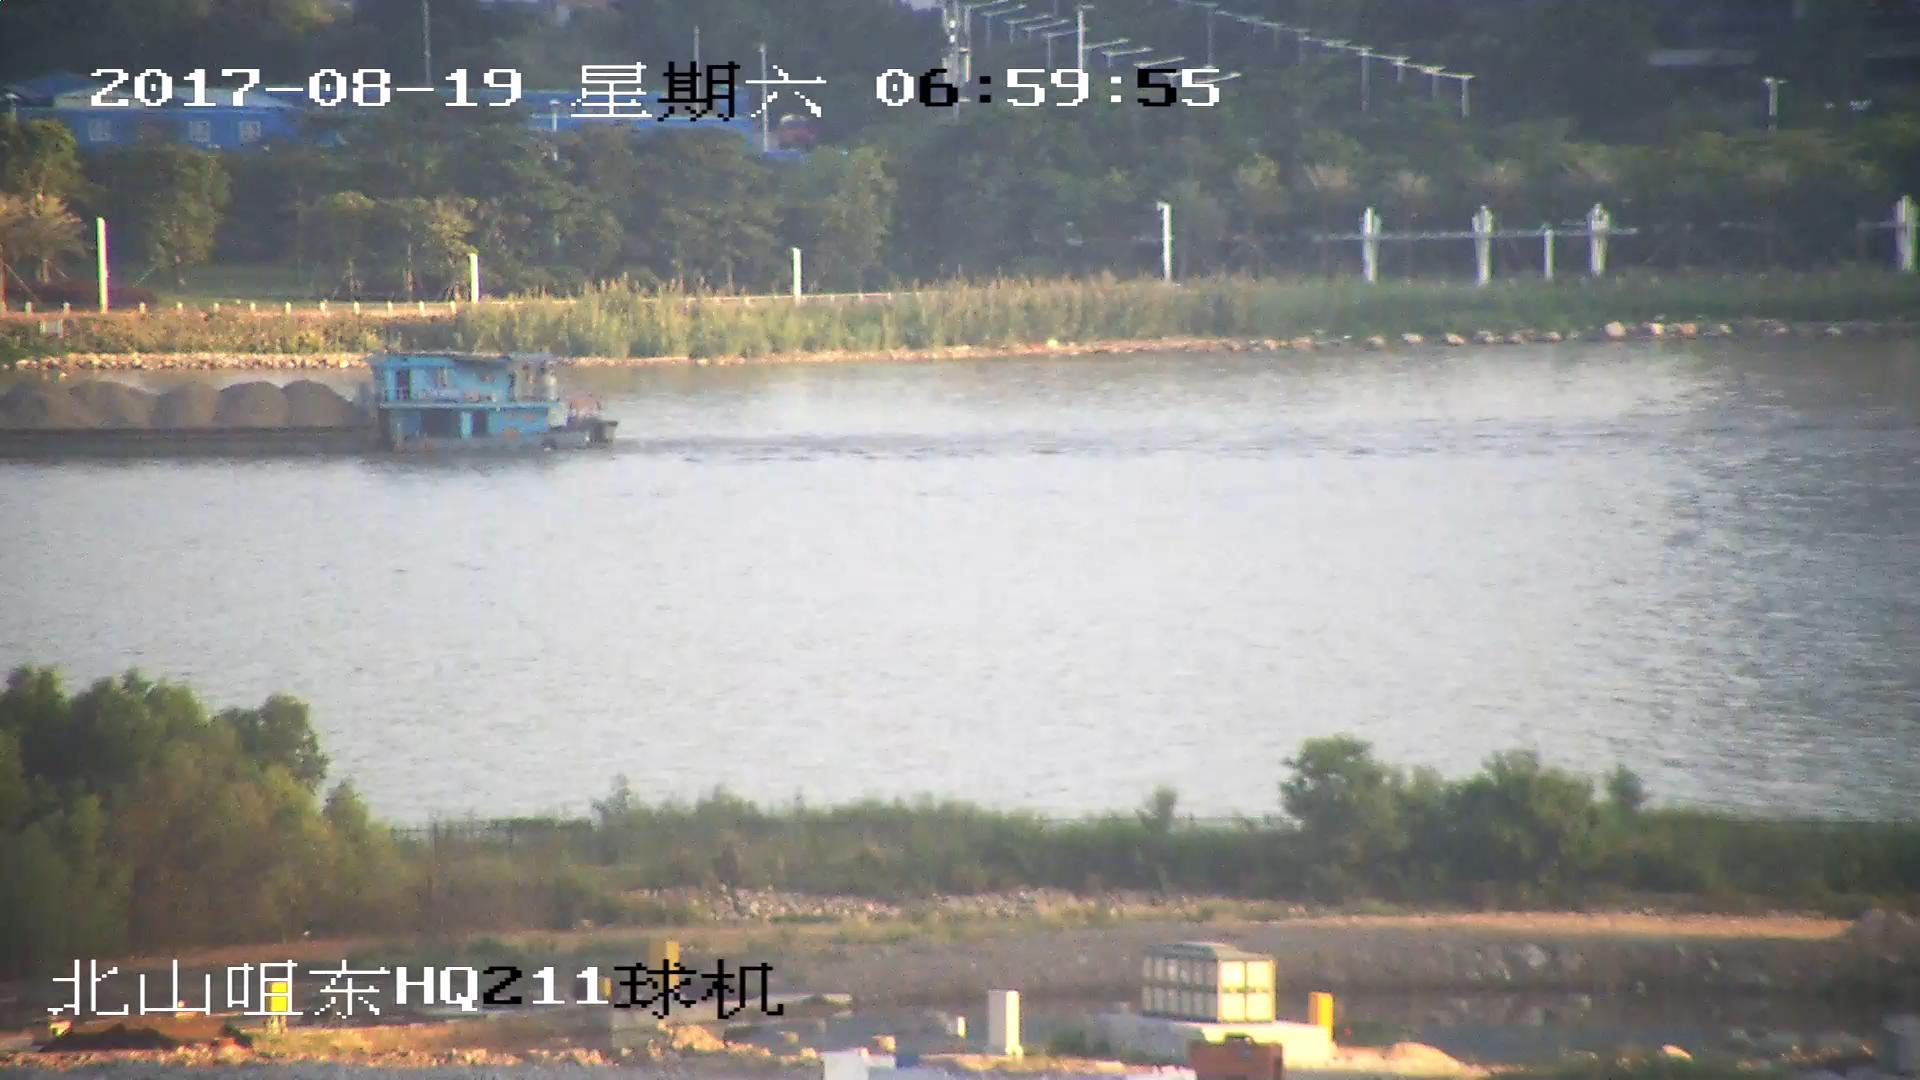Ship: (3, 352, 617, 455)
